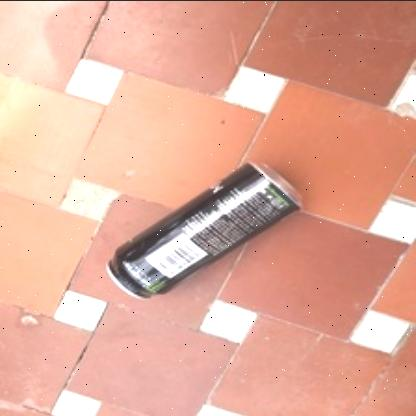Can: (104, 160, 304, 298)
